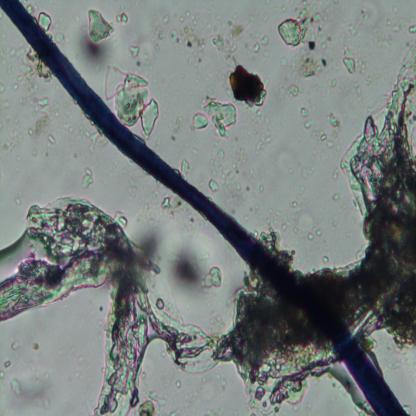Background material: (140, 6, 208, 72), (104, 60, 160, 133), (270, 194, 324, 242), (165, 240, 208, 292), (226, 57, 269, 109), (5, 48, 52, 81), (202, 95, 237, 134), (250, 120, 282, 160), (214, 152, 247, 190), (30, 96, 54, 147), (21, 376, 56, 409), (327, 12, 368, 39), (148, 190, 183, 220), (78, 36, 112, 66), (212, 20, 242, 52), (87, 9, 114, 43), (0, 124, 29, 155), (298, 8, 318, 51), (278, 17, 304, 48), (273, 152, 299, 183), (202, 264, 223, 292), (380, 11, 404, 35), (74, 127, 97, 151), (249, 30, 272, 53), (36, 6, 54, 34), (340, 47, 356, 77), (80, 167, 96, 191), (190, 112, 210, 130), (5, 336, 25, 354), (298, 107, 312, 128), (10, 375, 22, 399), (327, 110, 342, 128), (116, 12, 130, 28), (127, 42, 140, 58), (179, 160, 190, 178), (207, 178, 221, 192), (289, 84, 300, 99), (2, 356, 12, 372), (31, 340, 41, 350), (410, 23, 416, 34)
Cellulose filter fibre: (0, 194, 167, 414), (329, 41, 416, 323), (151, 295, 328, 391)
Cotton: (0, 2, 409, 414)
